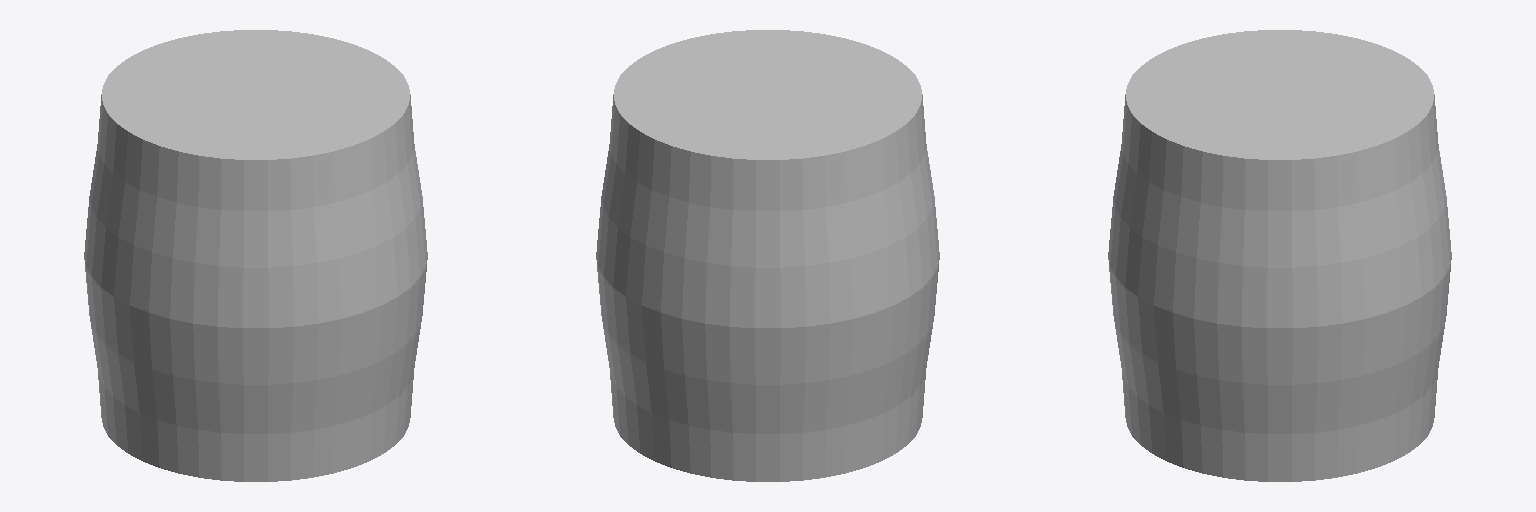
The model's file is barril.obj.
3 views of the same model, side by side, from view 1: azimuth 30°, elevation 25°; view 2: azimuth 150°, elevation 25°; view 3: azimuth 270°, elevation 25° (orthographic).
Parts seen in each view (by area): view 1: Cylinder; view 2: Cylinder; view 3: Cylinder.
Boxes of the visible parts, x1,y1,x2,y2 form: Cylinder: [84, 30, 427, 481]; Cylinder: [596, 30, 939, 481]; Cylinder: [1108, 30, 1451, 481].
Bounding box in the file's own units: 1.93 × 2 × 1.93.